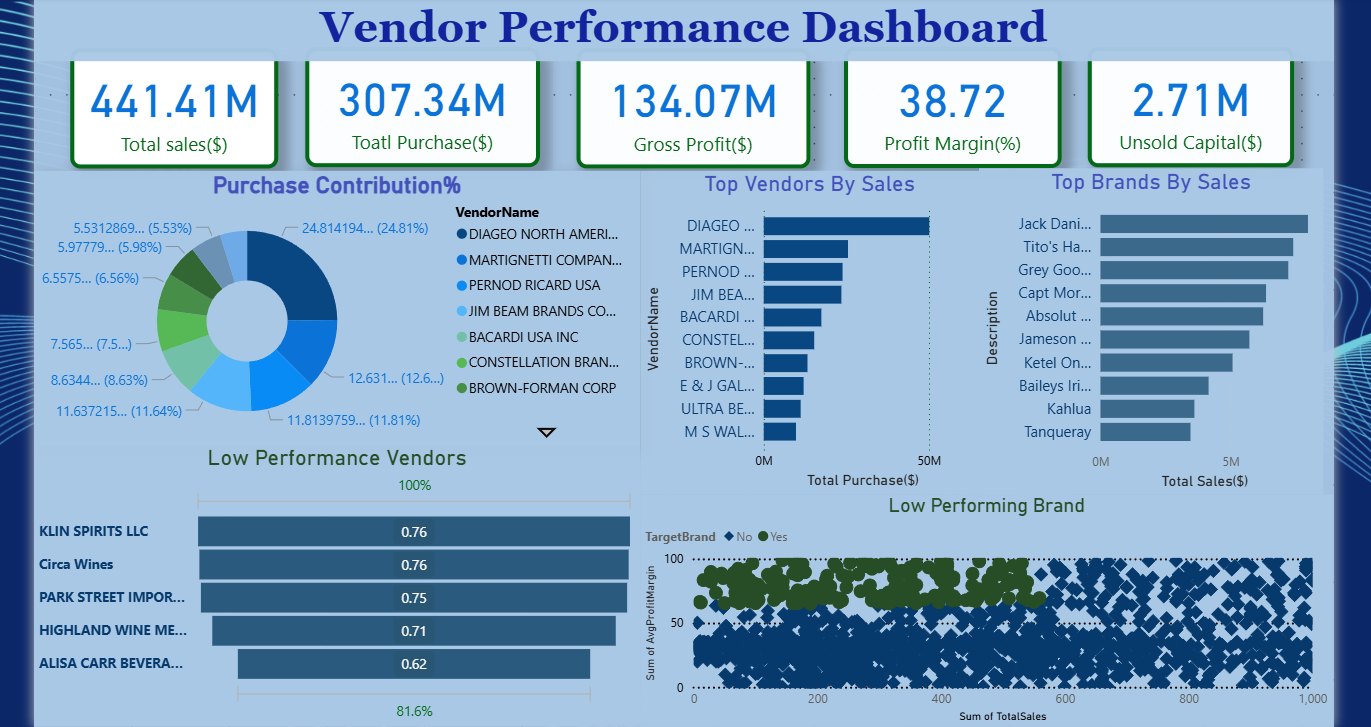

The dashboard page shown, as its layout file describes it:
{"tool":"powerbi","page":{"name":"Page 1","canvas":[1280,720],"ordinal":0},"visuals":[{"type":"card","fields":{"Values":["Sum(Vendor_Sales_Summary.TotalSalesDollars)"]},"box":[36,51,205,118],"z":0},{"type":"card","fields":{"Values":["Sum(Vendor_Sales_Summary.TotalPurchaseDollars)"]},"box":[267.2,49.7,231.2,118.2],"z":1000},{"type":"card","fields":{"Values":["Sum(Vendor_Sales_Summary.GrossProfit)"]},"box":[534,50,230,118],"z":2000},{"type":"card","fields":{"Values":["Avg(Vendor_Sales_Summary.ProfitMargin)"]},"box":[798,49,214,119],"z":3000},{"type":"card","fields":{"Values":["Sum(Vendor_Sales_Summary.UnsoldCapital)"]},"box":[1037,49,203,118],"z":4000},{"type":"donutChart","title":"Purchase Contribution% ","fields":{"Y":["Sum(Top_vendors.PurchaseContribution%)"],"Category":["Top_vendors.VendorName"]},"box":[0,171,597,270],"z":5000},{"type":"barChart","title":"Top Vendors By Sales","fields":{"Category":["Top_vendors.VendorName"],"Y":["Sum(Top_vendors.TotalPurchaseDollars)"]},"box":[597,171,334,318],"z":6000},{"type":"barChart","title":"Top Brands By Sales","fields":{"Category":["Vendor_Sales_Summary.Description"],"Y":["Sum(Vendor_Sales_Summary.TotalSalesDollars)"]},"box":[931,168,339,321],"z":7000},{"type":"funnel","title":"Low Performance Vendors","fields":{"Category":["LowTurnoverVendors.VendorName"],"Y":["Sum(LowTurnoverVendors.AverageStockTurnOver)"]},"box":[0,441,597,278],"z":8000},{"type":"scatterChart","title":"Low Performing Brand","fields":{"Category":["BrandPerformance.Description"],"X":["Sum(BrandPerformance.TotalSales)"],"Y":["Sum(BrandPerformance.AvgProfitMargin)"],"Series":["BrandPerformance.TargetBrand"]},"box":[597.2,489.5,682.1,229.7],"z":9000},{"type":"textbox","box":[0,0,1279.8,62.9],"z":10000}]}

Visuals, with their boxes on the page's 1280x720 design canvas (x1, y1, x2, y2). These are canvas units, not pixel positions in the 1371x727 screenshot, which may show the page scaled, cropped or inside an application window:
card - Sum(Vendor_Sales_Summary.TotalSalesDollars): {"left": 36, "top": 51, "right": 241, "bottom": 169}
card - Sum(Vendor_Sales_Summary.TotalPurchaseDollars): {"left": 267, "top": 50, "right": 498, "bottom": 168}
card - Sum(Vendor_Sales_Summary.GrossProfit): {"left": 534, "top": 50, "right": 764, "bottom": 168}
card - Avg(Vendor_Sales_Summary.ProfitMargin): {"left": 798, "top": 49, "right": 1012, "bottom": 168}
card - Sum(Vendor_Sales_Summary.UnsoldCapital): {"left": 1037, "top": 49, "right": 1240, "bottom": 167}
"Purchase Contribution% " donutChart: {"left": 0, "top": 171, "right": 597, "bottom": 441}
"Top Vendors By Sales" barChart: {"left": 597, "top": 171, "right": 931, "bottom": 489}
"Top Brands By Sales" barChart: {"left": 931, "top": 168, "right": 1270, "bottom": 489}
"Low Performance Vendors" funnel: {"left": 0, "top": 441, "right": 597, "bottom": 719}
"Low Performing Brand" scatterChart: {"left": 597, "top": 490, "right": 1279, "bottom": 719}
textbox: {"left": 0, "top": 0, "right": 1280, "bottom": 63}
